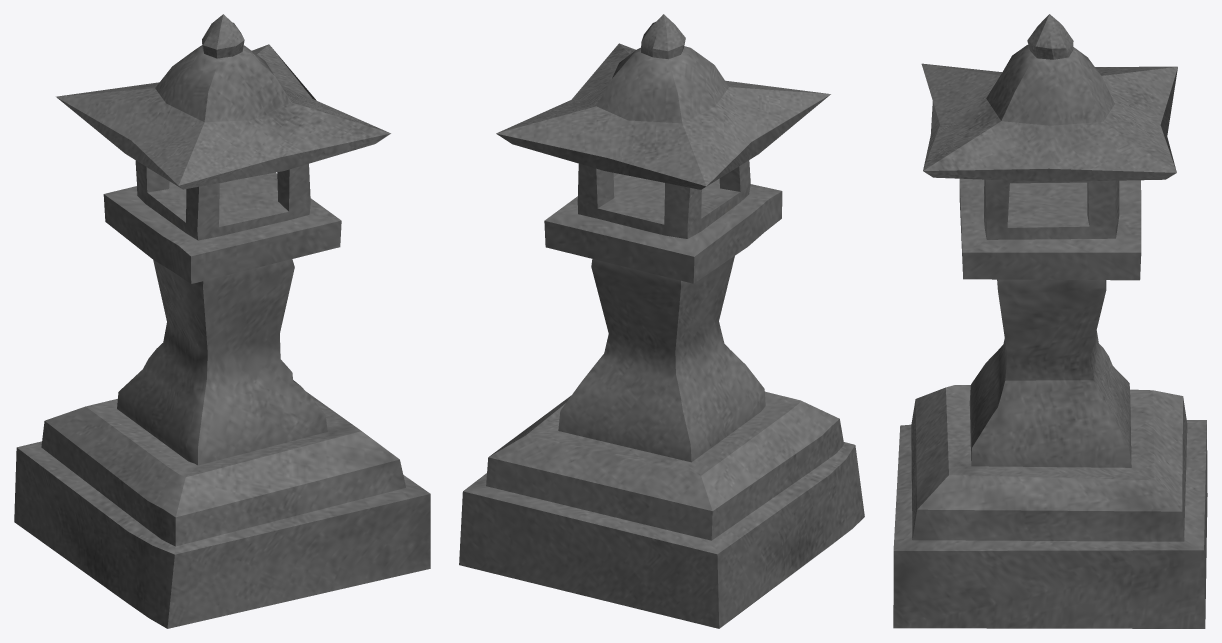
The model's file is stone_lantern_a.glb.
3 views of the same model, side by side, from view 1: azimuth 30°, elevation 25°; view 2: azimuth 150°, elevation 25°; view 3: azimuth 270°, elevation 25° (orthographic). The views are drawn at different scales.
Visible parts, largest first — view 1: defaultMaterial; view 2: defaultMaterial; view 3: defaultMaterial.
Part boxes in pixels (x1=…): defaultMaterial: x1=14, y1=14, x2=430, y2=628; defaultMaterial: x1=459, y1=14, x2=864, y2=628; defaultMaterial: x1=893, y1=14, x2=1207, y2=628.
Bounding box in the file's own units: 0.8324 × 1.6 × 0.8292.
Materials: 1 (1 with a texture image).
